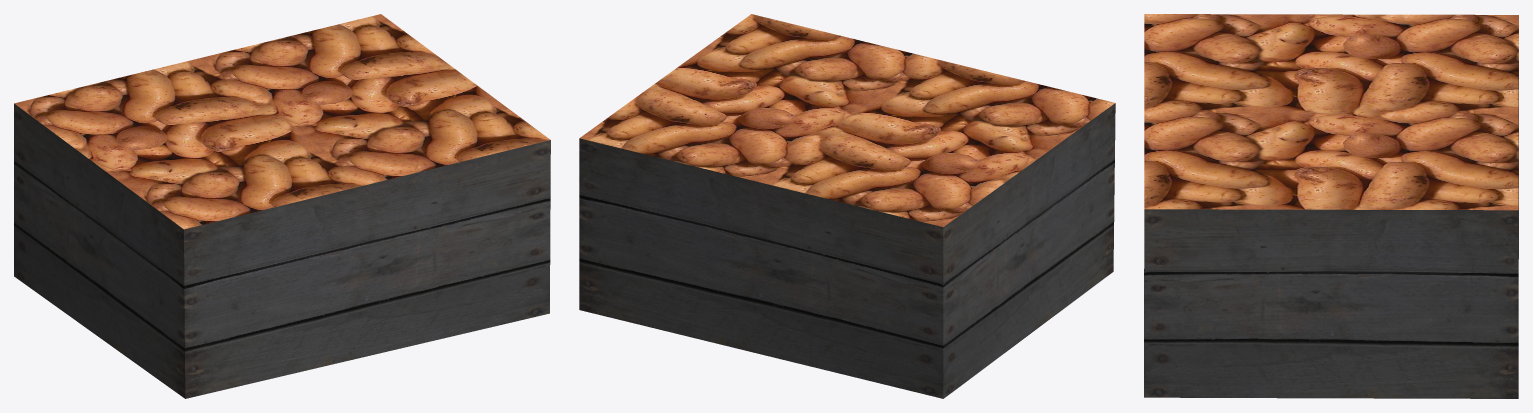
File: potatoebox01_LOD03.fbx
3 renders of one model, left to right at view 1: azimuth 30°, elevation 25°; view 2: azimuth 150°, elevation 25°; view 3: azimuth 270°, elevation 25°, orthographic. The views are drawn at different scales.
Parts seen in each view (by area): view 1: Mesh Object; view 2: Mesh Object; view 3: Mesh Object.
Part boxes in pixels (<box>): Mesh Object: <box>14,14,550,398</box>; Mesh Object: <box>579,14,1115,398</box>; Mesh Object: <box>1144,14,1518,398</box>.
Size of the model in its own units: 0.6278 by 0.2819 by 0.5067.
